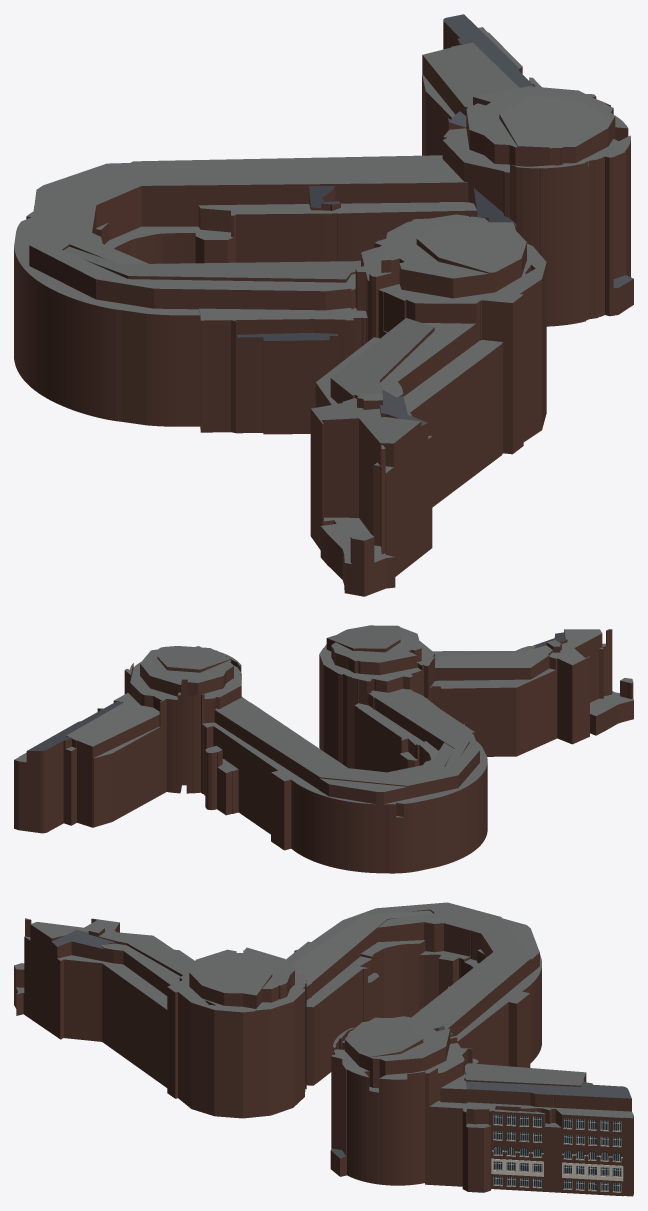
File: recipe-large-van-der-palmkade-191-120309.glb
3 views of the same model, one above another, from view 1: azimuth 30°, elevation 25°; view 2: azimuth 150°, elevation 25°; view 3: azimuth 270°, elevation 25° (orthographic). The views are drawn at different scales.
Visible parts, largest first — view 1: van-der-palmkade-191-120309; view 2: van-der-palmkade-191-120309; view 3: van-der-palmkade-191-120309.
Boxes of the visible parts, <box> form: van-der-palmkade-191-120309: <box>14,14,633,596</box>; van-der-palmkade-191-120309: <box>14,625,633,873</box>; van-der-palmkade-191-120309: <box>14,902,633,1196</box>.
Size of the model in its own units: 88.81 by 25.19 by 114.
